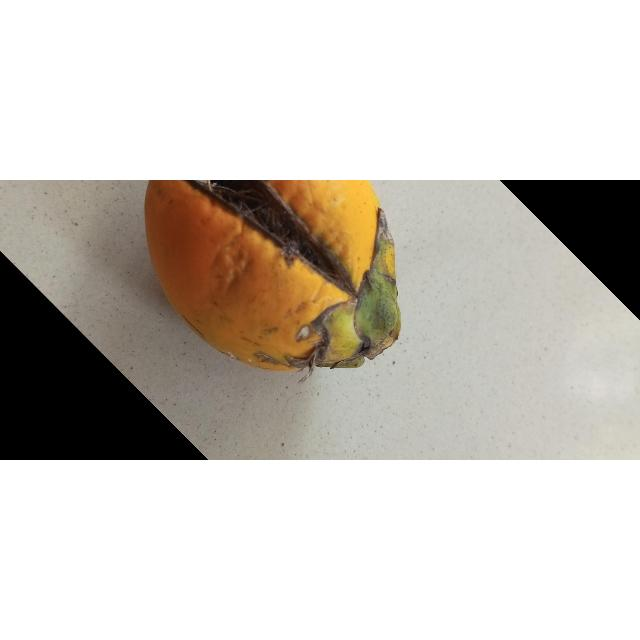damaged: (143, 180, 402, 373)
